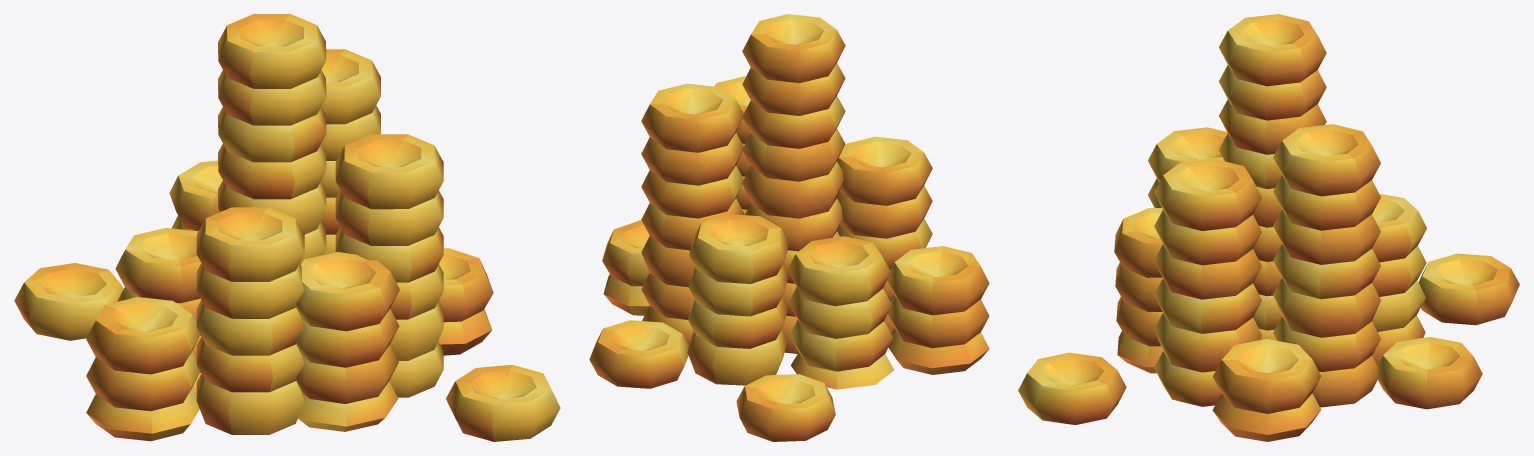
Rendered from coin_stack_large.glb.
The picture shows the model from 3 angles, left to right: view 1: azimuth 30°, elevation 25°; view 2: azimuth 150°, elevation 25°; view 3: azimuth 270°, elevation 25°; orthographic projection. The views are drawn at different scales.
Parts seen in each view (by area): view 1: coin_stack_large; view 2: coin_stack_large; view 3: coin_stack_large.
Part boxes in pixels (<box>): coin_stack_large: <box>14,14,560,441</box>; coin_stack_large: <box>589,14,989,441</box>; coin_stack_large: <box>1018,14,1519,441</box>.
Size of the model in its own units: 1.44 by 1.16 by 1.66.
Materials: 1 (1 with a texture image).
